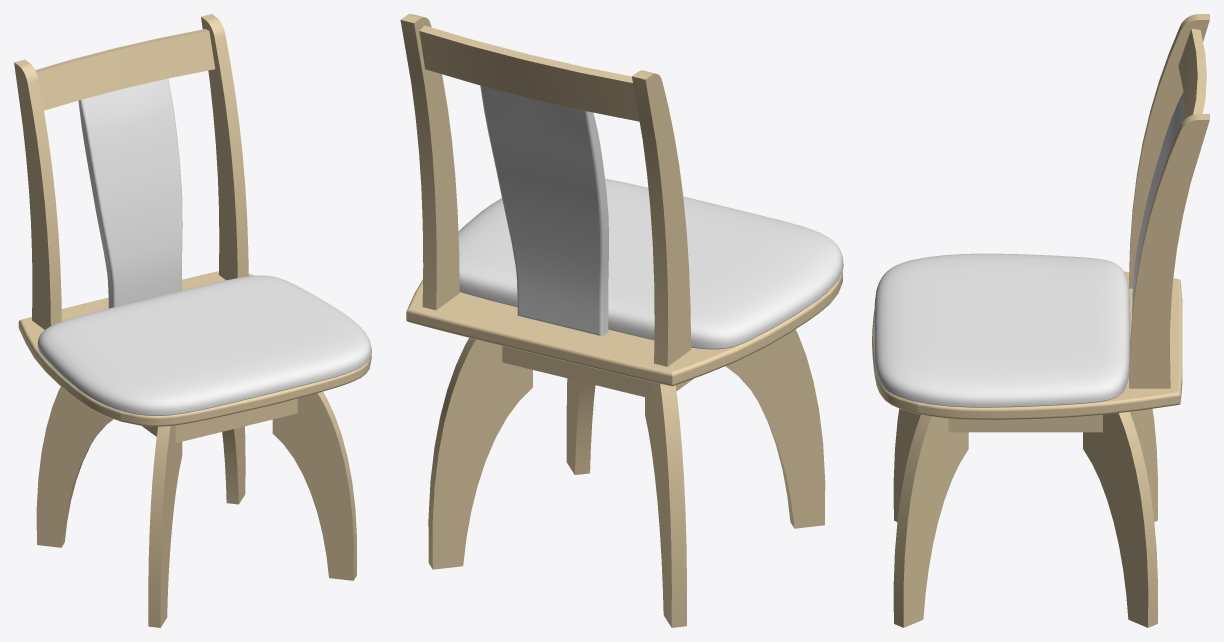
3 views of the same model, side by side, from view 1: azimuth 30°, elevation 25°; view 2: azimuth 150°, elevation 25°; view 3: azimuth 270°, elevation 25° (orthographic). The views are drawn at different scales.
Parts seen in each view (by area): view 1: Body; view 2: Body; view 3: Body.
Part boxes in pixels (x1,y1,x2,y2): Body: (14,14,371,627); Body: (400,14,843,627); Body: (872,14,1209,627).
Bounding box in the file's own units: 0.4954 × 0.8011 × 0.4854.
